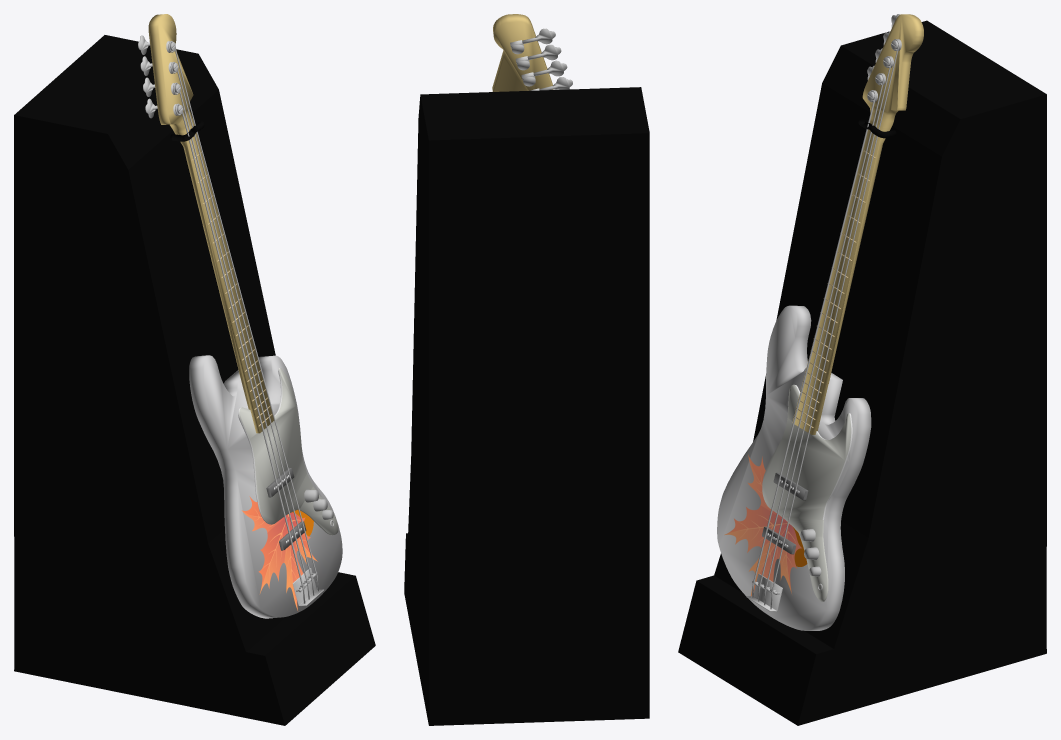
The model's file is figure.glb.
3 renders of one model, left to right at view 1: azimuth 30°, elevation 25°; view 2: azimuth 150°, elevation 25°; view 3: azimuth 270°, elevation 25°, orthographic. The views are drawn at different scales.
Visible parts, largest first — view 1: bassFig; view 2: bassFig; view 3: bassFig.
Boxes of the visible parts, x1,y1,x2,y2 form: bassFig: (14,14,375,725); bassFig: (404,14,649,725); bassFig: (678,14,1046,725).
Size of the model in its own units: 0.4014 by 0.81 by 0.4284.
20 materials, 1 textured.
